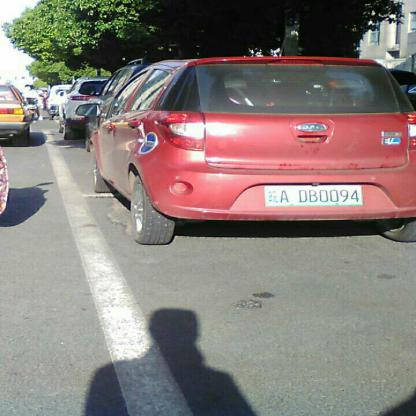lp: (264, 184, 363, 206)
